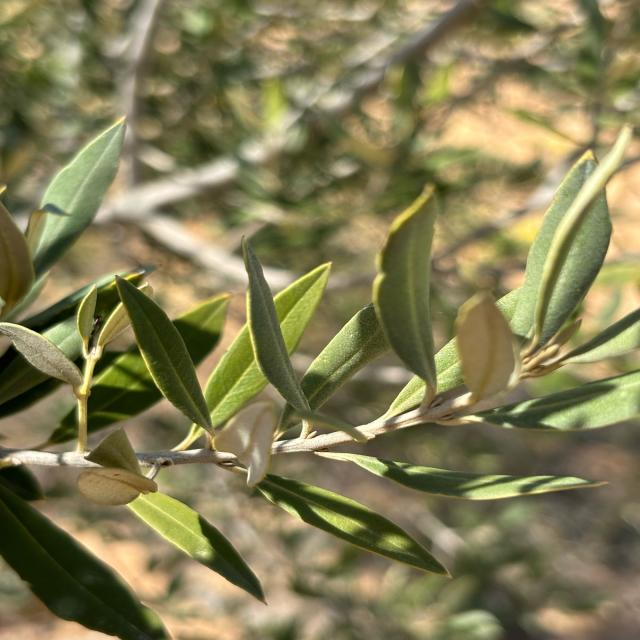Healthy: (259, 476, 451, 576), (116, 280, 214, 448), (25, 118, 125, 274), (128, 493, 266, 604), (373, 185, 437, 407), (315, 452, 606, 500), (241, 238, 310, 410)
